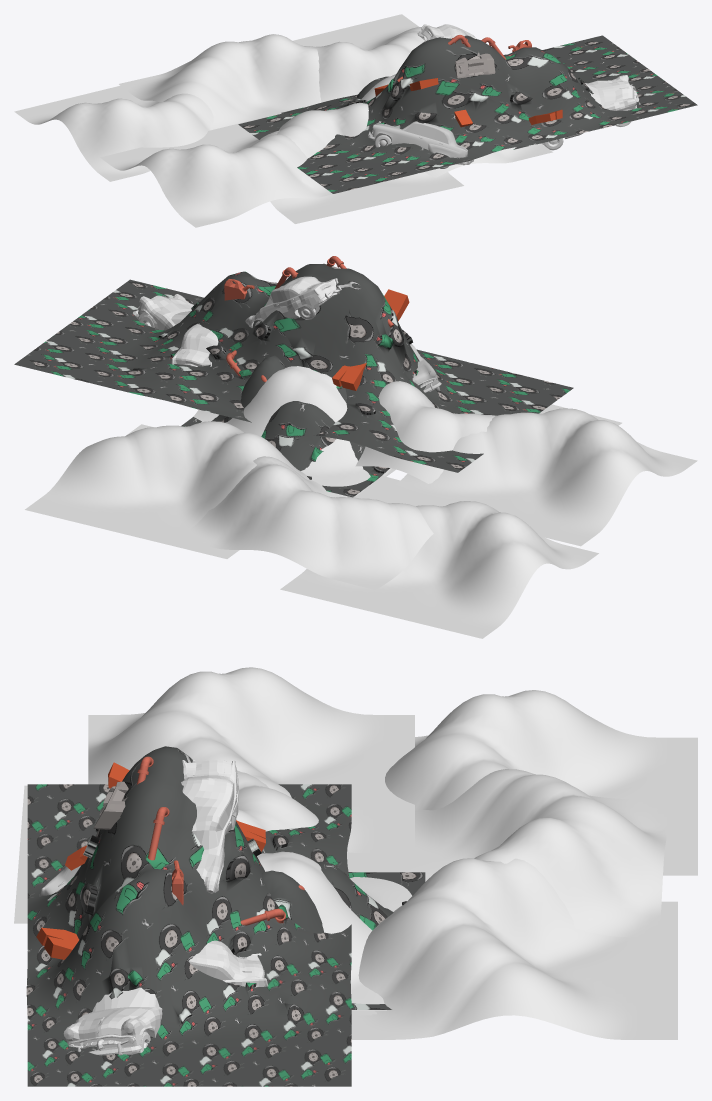
Rendered from junkpile3.fbx.
3 views of the same model, one above another, from view 1: azimuth 30°, elevation 25°; view 2: azimuth 150°, elevation 25°; view 3: azimuth 270°, elevation 25° (orthographic). The views are drawn at different scales.
Parts seen in each view (by area): view 1: Plane.001, Plane.009, Plane.005, Plane.008, Plane.007, Plane.006, moskvitch.003, Plane.004, Cube.004, Faxy; view 2: Plane.001, Plane.009, Plane.006, Plane.008, Plane.005, Plane.002, moskvitch.003, Plane.007, Plane, Cube.004, Cylinder.001; view 3: Plane.001, Plane.006, Plane.009, Plane.005, Plane.008, moskvitch.003, Plane.002, Plane, Plane.007, Cube.004, Cylinder.001, Faxy.
Part boxes in pixels (x1,y1,x2,y2): Plane.001: [238, 35, 697, 193]; Plane.009: [100, 117, 351, 227]; Plane.005: [119, 34, 321, 130]; Plane.008: [14, 85, 213, 181]; Plane.007: [270, 102, 463, 223]; Plane.006: [293, 14, 424, 102]; moskvitch.003: [367, 24, 640, 168]; Plane.004: [424, 143, 552, 177]; Cube.004: [374, 78, 562, 127]; Faxy: [455, 52, 495, 78]; Plane.001: [14, 264, 573, 472]; Plane.009: [378, 408, 697, 546]; Plane.006: [25, 421, 312, 558]; Plane.008: [280, 501, 598, 638]; Plane.005: [177, 456, 433, 590]; Plane.002: [201, 366, 391, 497]; moskvitch.003: [132, 276, 441, 392]; Plane.007: [355, 381, 621, 483]; Plane: [181, 355, 389, 497]; Cube.004: [332, 289, 409, 390]; Cylinder.001: [226, 256, 393, 382]; Plane.001: [26, 746, 351, 1086]; Plane.006: [351, 858, 677, 1039]; Plane.009: [88, 667, 414, 852]; Plane.005: [347, 769, 669, 937]; Plane.008: [385, 690, 697, 875]; moskvitch.003: [39, 760, 268, 1055]; Plane.002: [257, 851, 411, 1010]; Plane: [261, 861, 425, 1009]; Plane.007: [14, 770, 318, 923]; Cube.004: [36, 762, 265, 959]; Cylinder.001: [137, 756, 304, 925]; Faxy: [93, 781, 128, 829].
Bounding box in the file's own units: 4673 × 1200 × 3346.
